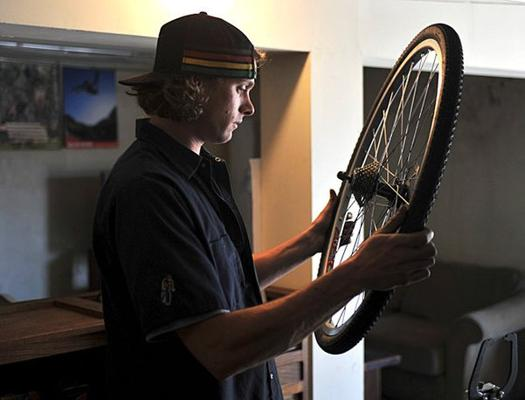person: (92, 10, 437, 397)
